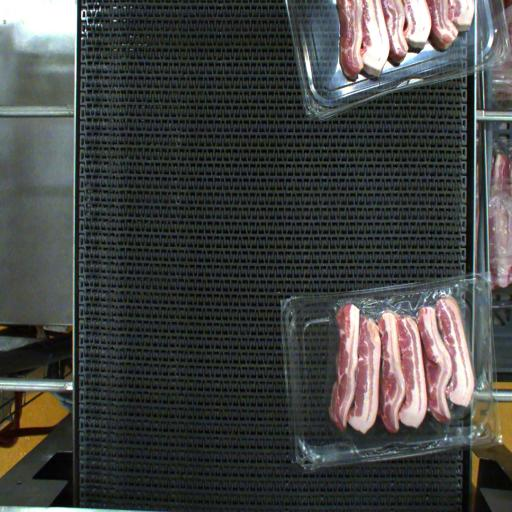unsealed: (294, 288, 480, 468)
